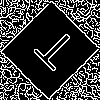T: (25, 25, 80, 79)
